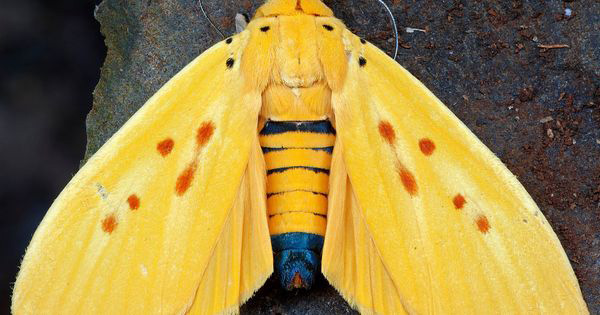Agape chloropyga: (1, 2, 591, 315)
moth: (2, 2, 593, 315)
